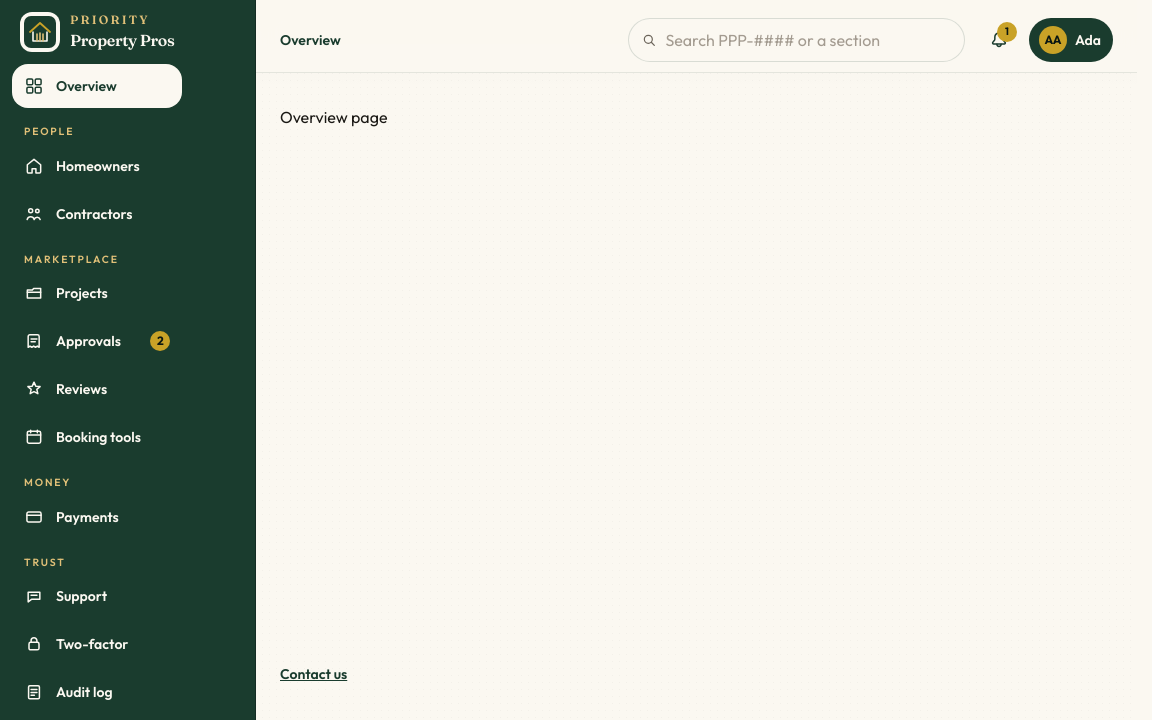
admin layout › looks up a PPP job number and opens that booking record
The image size is (1152, 720).
Type "PPP-1004" into the dropdown named "Search jobs and admin sections" at {"x": 809, "y": 40}, box [666,21,952,59]
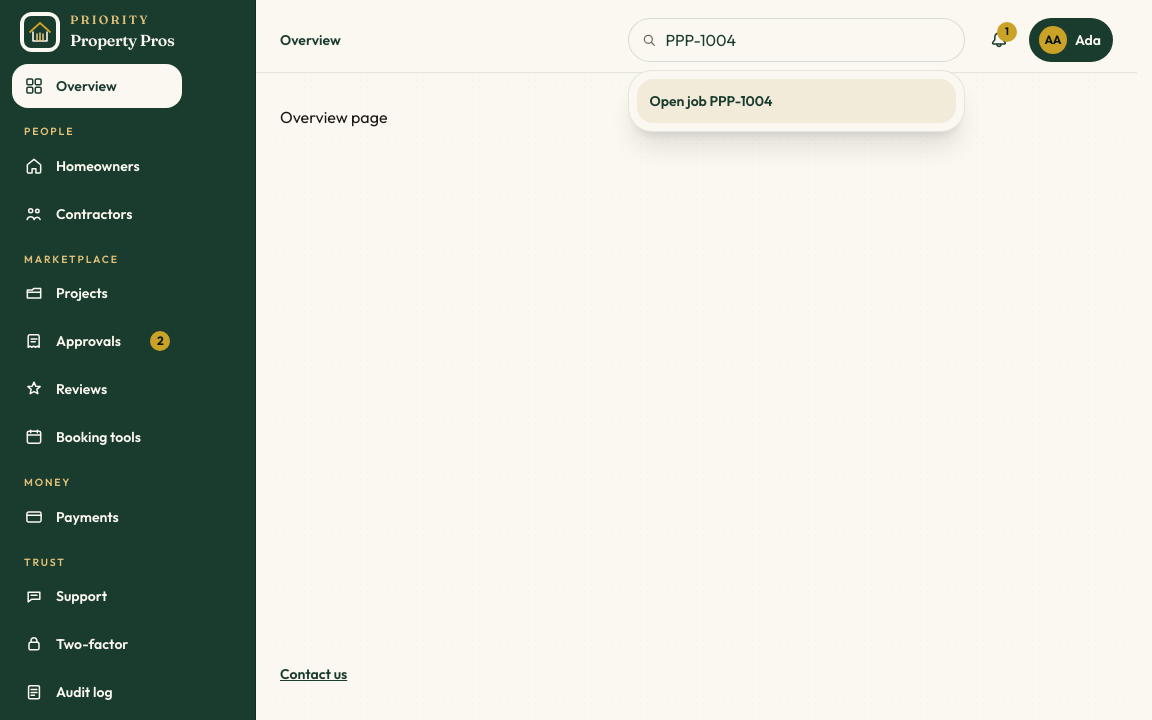
Press Enter
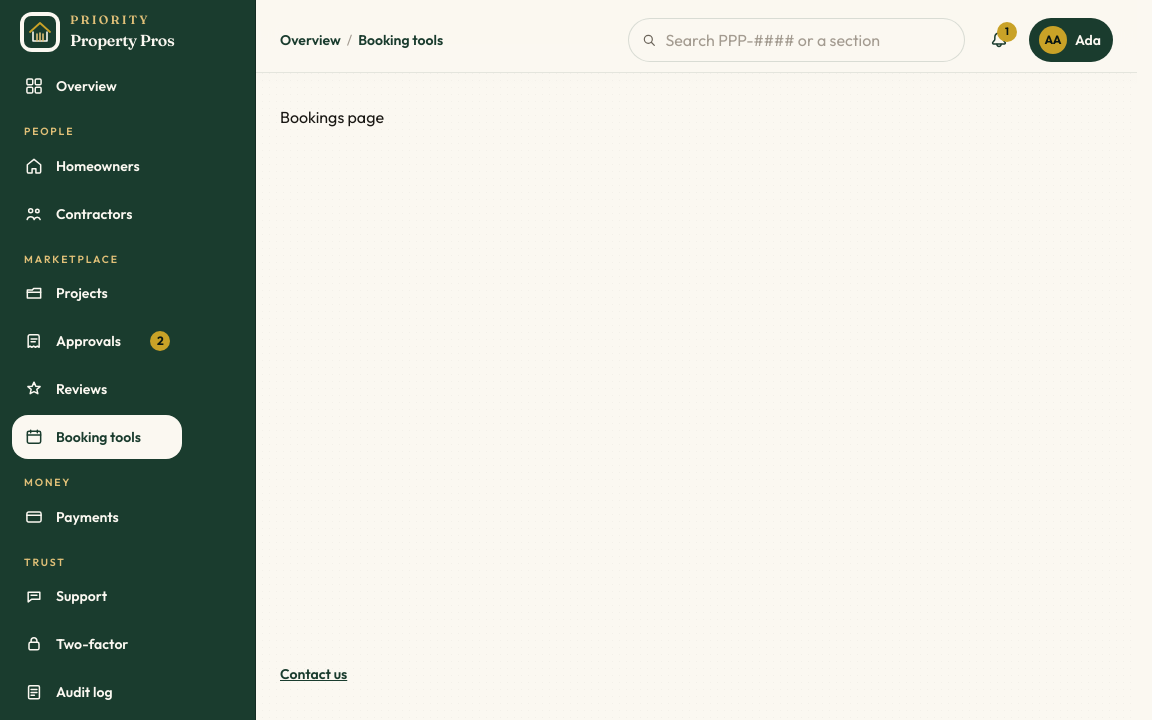
Check: the heading "Bookings page" is shown, box [280,107,384,127]
